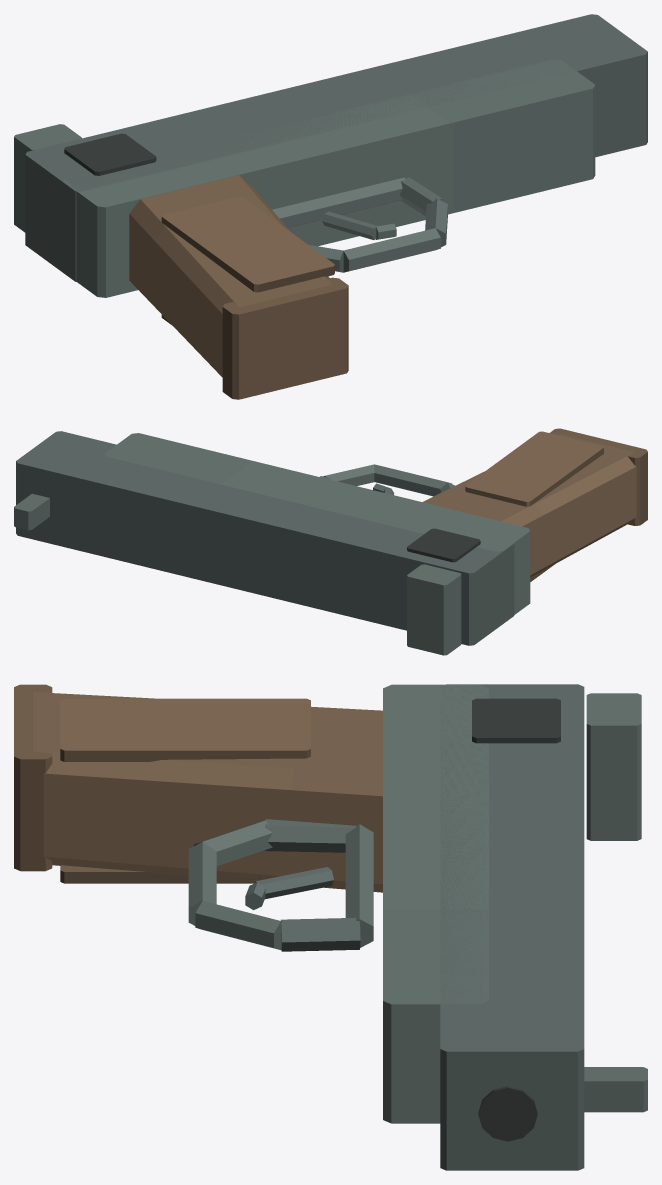
The model's file is weapon-colt-1903.glb.
The picture shows the model from 3 angles, top to bottom: view 1: azimuth 30°, elevation 25°; view 2: azimuth 150°, elevation 25°; view 3: azimuth 270°, elevation 25°; orthographic projection. The views are drawn at different scales.
Parts seen in each view (by area): view 1: weapon-colt-1903/lower-frame, weapon-colt-1903/flat-slide, weapon-colt-1903/eight-sided-grip, weapon-colt-1903/eight-sided-grip-heel, weapon-colt-1903/independent-grip-panels-left, weapon-colt-1903/hollow-trigger-guard-1, weapon-colt-1903/slide-rear-serrations-left, weapon-colt-1903/hollow-trigger-guard-4, weapon-colt-1903/rear-sight, weapon-colt-1903/hollow-trigger-guard-trigger-1, weapon-colt-1903/hollow-trigger-guard-2, weapon-colt-1903/hollow-trigger-guard-3; view 2: weapon-colt-1903/flat-slide, weapon-colt-1903/lower-frame, weapon-colt-1903/eight-sided-grip, weapon-colt-1903/independent-grip-panels-left, weapon-colt-1903/rear-sight, weapon-colt-1903/slide-rear-serrations-left, weapon-colt-1903/eight-sided-grip-heel, weapon-colt-1903/hollow-trigger-guard-4, weapon-colt-1903/front-sight, weapon-colt-1903/hollow-trigger-guard-3; view 3: weapon-colt-1903/flat-slide, weapon-colt-1903/lower-frame, weapon-colt-1903/eight-sided-grip, weapon-colt-1903/independent-grip-panels-left, weapon-colt-1903/rear-sight, weapon-colt-1903/eight-sided-grip-heel, weapon-colt-1903/slide-rear-serrations-left, weapon-colt-1903/hollow-trigger-guard-1, weapon-colt-1903/front-sight, weapon-colt-1903/hollow-trigger-guard-2, weapon-colt-1903/muzzle-dark-disc, weapon-colt-1903/hollow-trigger-guard-3 (+5 smaller).
Boxes of the visible parts, box(x1,y1,x2,y2) form: weapon-colt-1903/lower-frame: box(63, 59, 595, 297); weapon-colt-1903/flat-slide: box(25, 14, 647, 281); weapon-colt-1903/eight-sided-grip: box(129, 175, 331, 377); weapon-colt-1903/eight-sided-grip-heel: box(222, 277, 348, 399); weapon-colt-1903/independent-grip-panels-left: box(161, 196, 334, 292); weapon-colt-1903/hollow-trigger-guard-1: box(272, 177, 405, 227); weapon-colt-1903/slide-rear-serrations-left: box(64, 133, 156, 175); weapon-colt-1903/hollow-trigger-guard-4: box(343, 228, 440, 272); weapon-colt-1903/rear-sight: box(14, 124, 81, 232); weapon-colt-1903/hollow-trigger-guard-trigger-1: box(322, 211, 377, 239); weapon-colt-1903/hollow-trigger-guard-2: box(400, 177, 444, 216); weapon-colt-1903/hollow-trigger-guard-3: box(425, 198, 447, 247); weapon-colt-1903/flat-slide: box(16, 431, 514, 645); weapon-colt-1903/lower-frame: box(104, 433, 530, 614); weapon-colt-1903/eight-sided-grip: box(422, 434, 636, 577); weapon-colt-1903/independent-grip-panels-left: box(465, 431, 603, 506); weapon-colt-1903/rear-sight: box(407, 564, 461, 655); weapon-colt-1903/slide-rear-serrations-left: box(407, 528, 480, 562); weapon-colt-1903/eight-sided-grip-heel: box(550, 428, 647, 525); weapon-colt-1903/hollow-trigger-guard-4: box(374, 464, 451, 496); weapon-colt-1903/front-sight: box(14, 493, 49, 530); weapon-colt-1903/hollow-trigger-guard-3: box(323, 464, 374, 485); weapon-colt-1903/flat-slide: box(440, 684, 584, 1170); weapon-colt-1903/lower-frame: box(383, 684, 488, 1123); weapon-colt-1903/eight-sided-grip: box(33, 692, 382, 892); weapon-colt-1903/independent-grip-panels-left: box(60, 698, 310, 761); weapon-colt-1903/rear-sight: box(586, 693, 641, 840); weapon-colt-1903/eight-sided-grip-heel: box(14, 684, 52, 871); weapon-colt-1903/slide-rear-serrations-left: box(472, 698, 560, 743); weapon-colt-1903/hollow-trigger-guard-1: box(345, 824, 373, 947); weapon-colt-1903/front-sight: box(584, 1067, 647, 1112); weapon-colt-1903/hollow-trigger-guard-2: box(280, 917, 360, 951); weapon-colt-1903/muzzle-dark-disc: box(478, 1086, 537, 1141); weapon-colt-1903/hollow-trigger-guard-3: box(195, 901, 282, 949).
Bounding box in the file's own units: 0.2088 × 0.0346 × 0.1495.
Materials: 3 (3 with a texture image).
